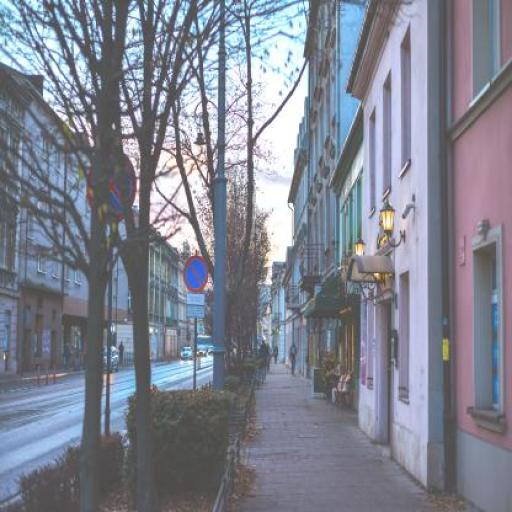street light: (193, 98, 225, 397), (21, 169, 49, 377)
